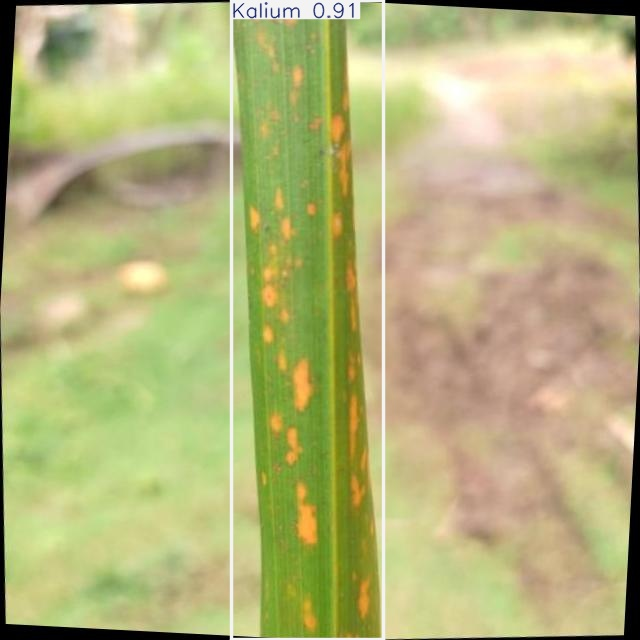Kalium: (231, 1, 383, 639)
